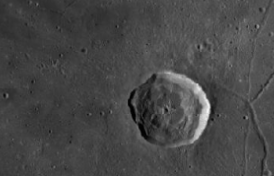crater: (113, 59, 223, 161)
